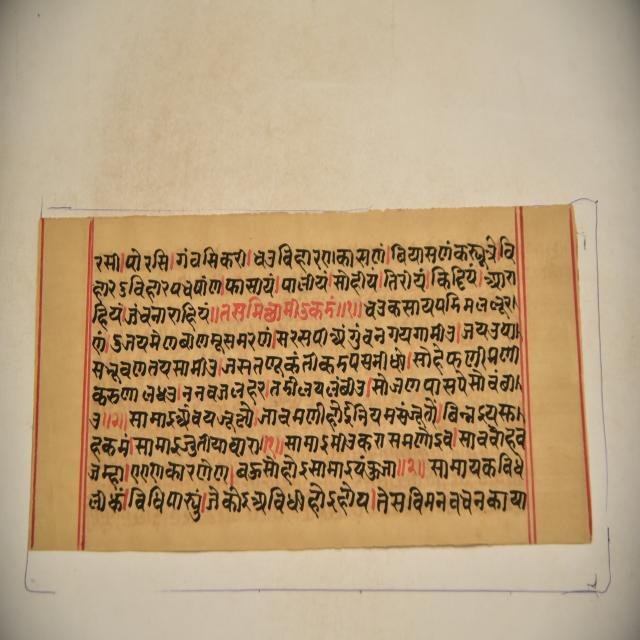text_paragraph: (27, 206, 594, 551)
